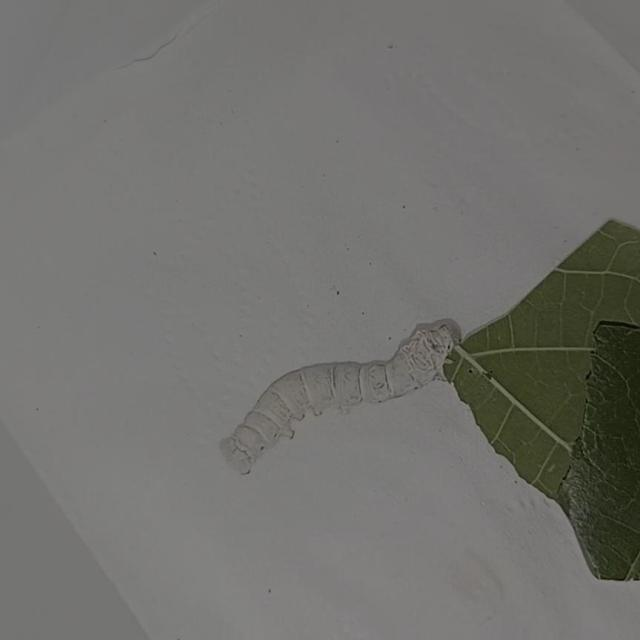Healthy: (172, 294, 520, 504)
